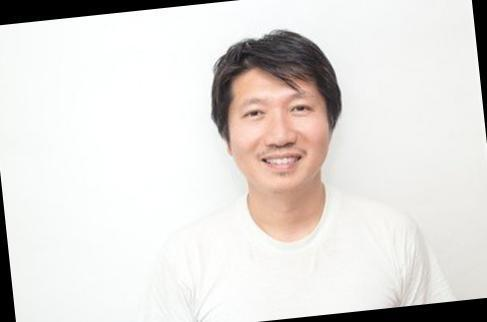Sober: (225, 67, 330, 202)
